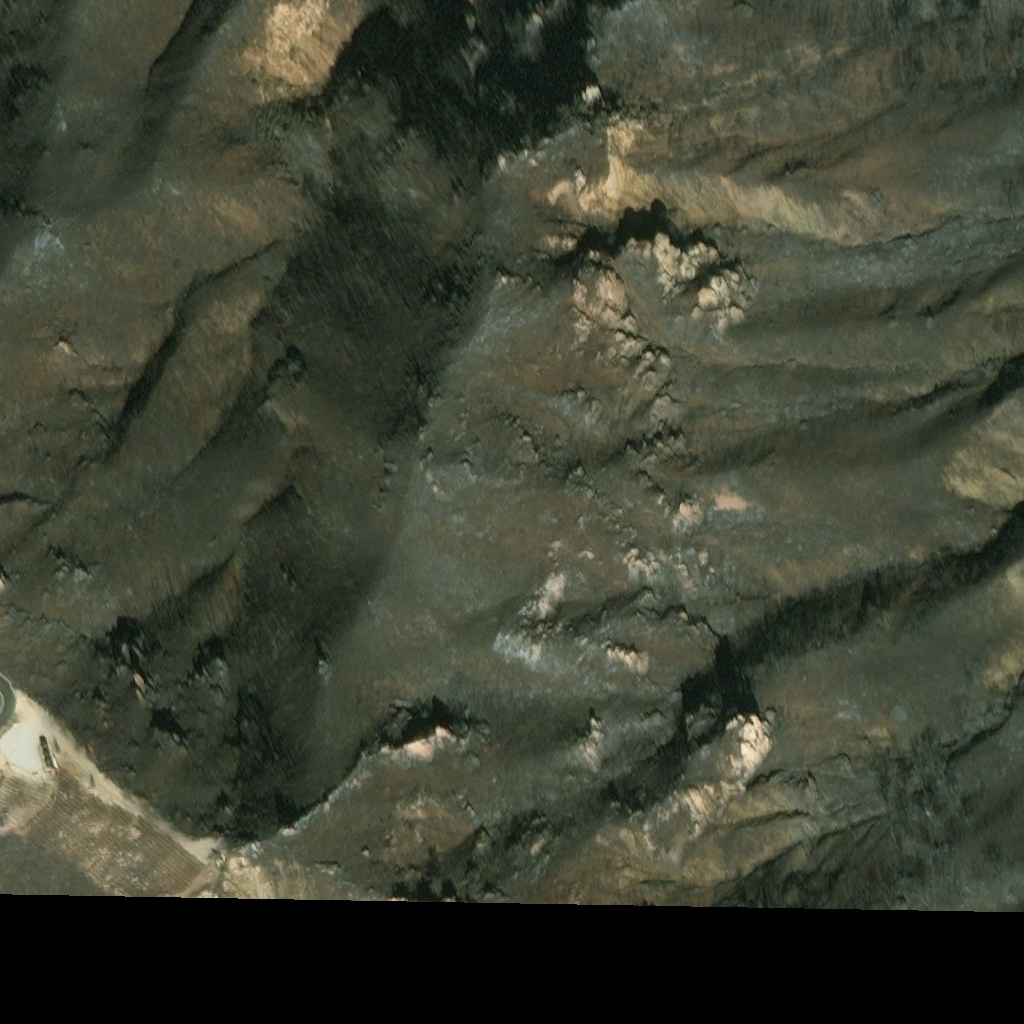4 un-classified: (212, 847, 226, 869)
